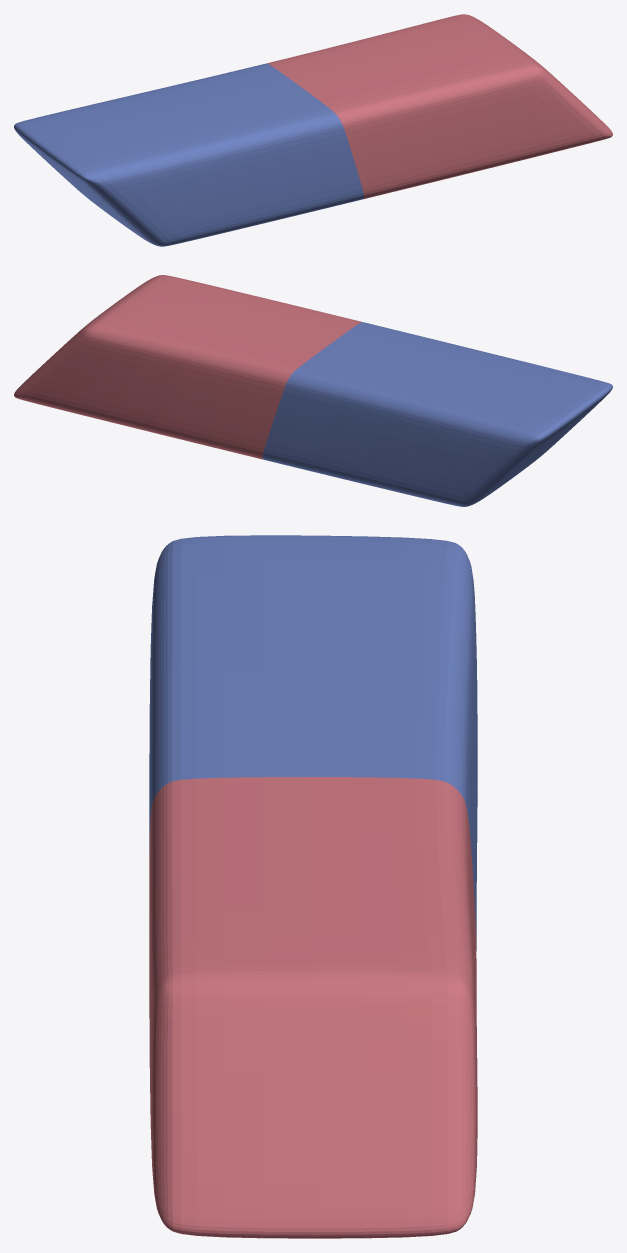
Rendered from Eraser.fbx.
3 renders of one model, top to bottom at view 1: azimuth 30°, elevation 25°; view 2: azimuth 150°, elevation 25°; view 3: azimuth 270°, elevation 25°, orthographic. The views are drawn at different scales.
Parts seen in each view (by area): view 1: Eraser; view 2: Eraser; view 3: Eraser.
Part boxes in pixels (<box>): Eraser: <box>14,14,612,246</box>; Eraser: <box>14,275,612,506</box>; Eraser: <box>149,535,477,1238</box>.
Bounding box in the file's own units: 55.7 × 9.56 × 14.83.
